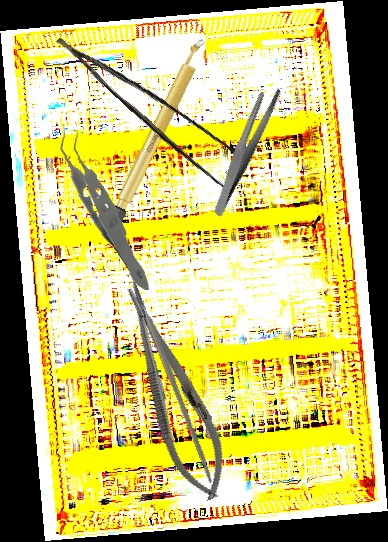Dressing Forceps: (183, 81, 307, 218)
Needle Holder: (107, 277, 241, 508)
Scalpel Handle: (104, 36, 210, 230), (130, 279, 216, 484)
Tissue Forceps: (56, 10, 255, 199), (51, 120, 160, 291)
